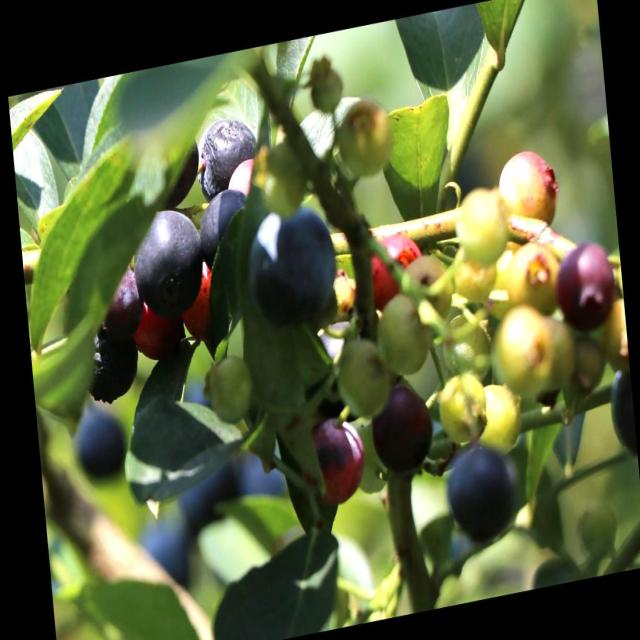blueberry: (244, 194, 339, 323), (126, 200, 206, 318), (439, 438, 514, 544), (367, 382, 435, 482), (193, 110, 260, 198), (78, 313, 142, 405), (196, 183, 250, 270)
blueberry-halfripe: (553, 231, 615, 336), (501, 141, 561, 235), (311, 409, 369, 506), (359, 225, 424, 304), (133, 296, 187, 364), (180, 261, 218, 337)
blueberry-unripe: (493, 301, 556, 395), (432, 364, 492, 447), (504, 235, 562, 320), (371, 294, 426, 381), (441, 314, 500, 394), (334, 333, 388, 419), (453, 183, 506, 264), (476, 376, 526, 448), (452, 243, 495, 306)
